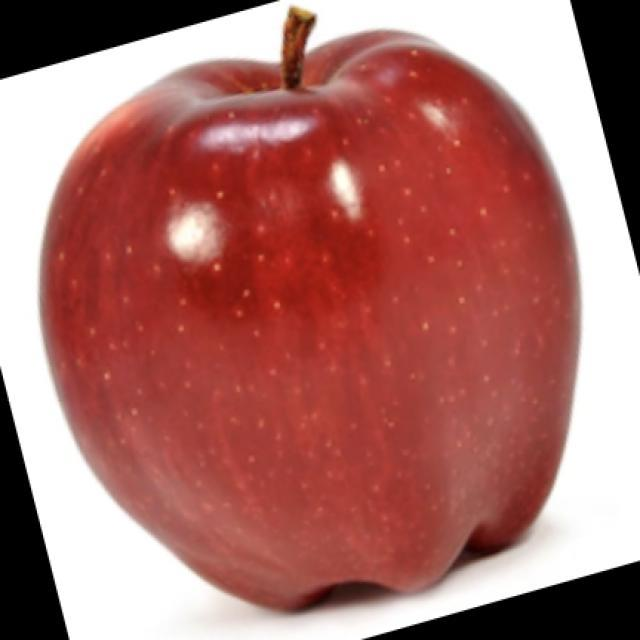Fresh Apple: (65, 35, 575, 603)
